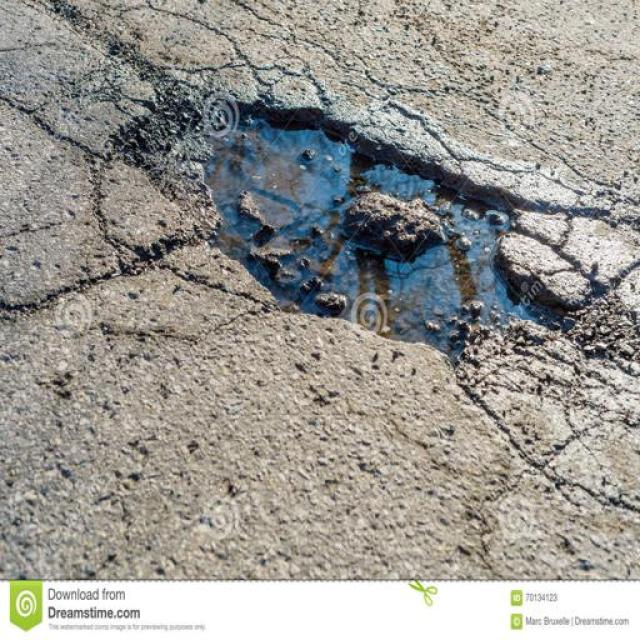puddle: (220, 121, 515, 362)
